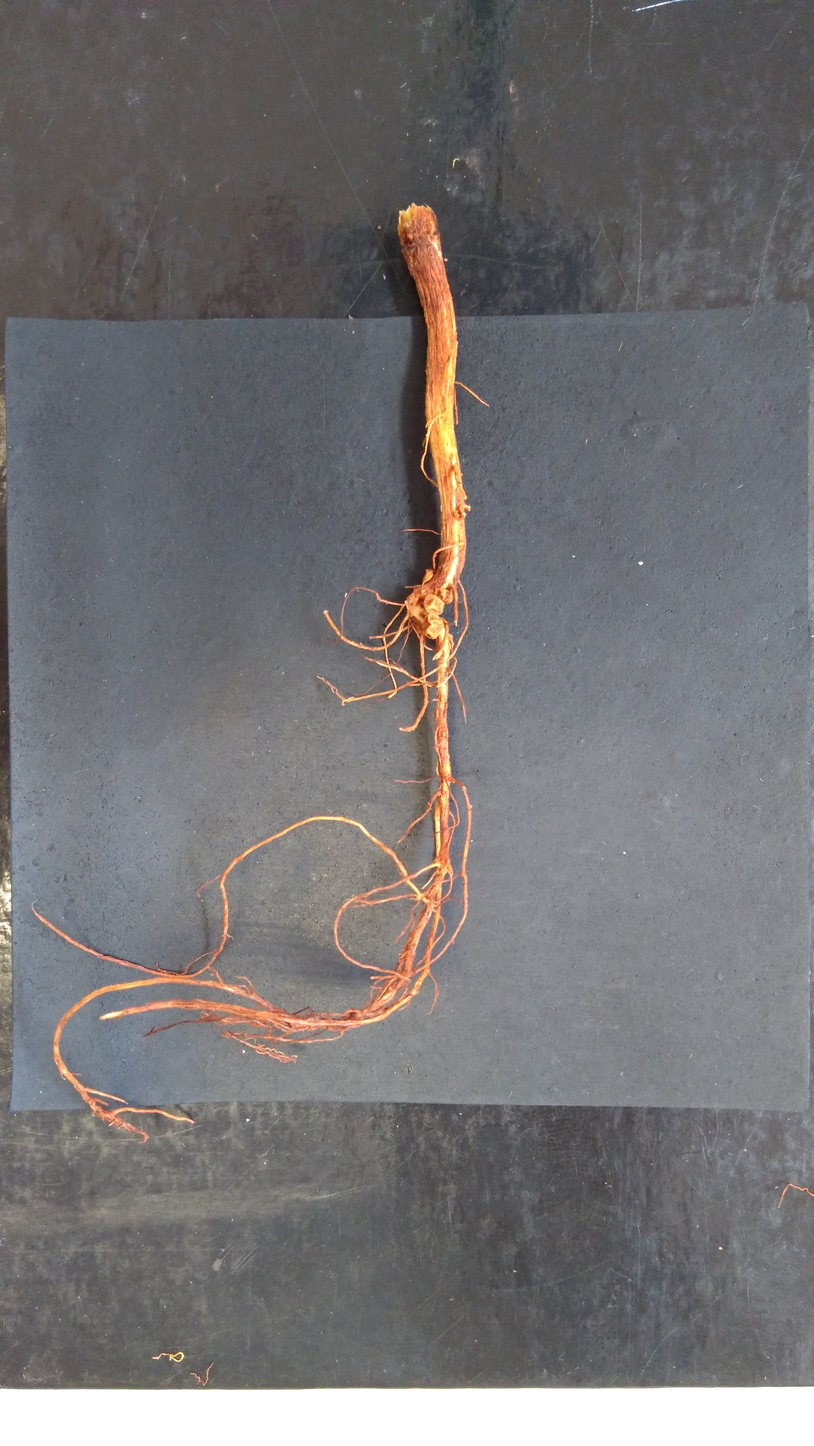nodule: (402, 584, 431, 627), (422, 613, 444, 640), (422, 593, 445, 616), (441, 590, 454, 605), (422, 568, 434, 584)
